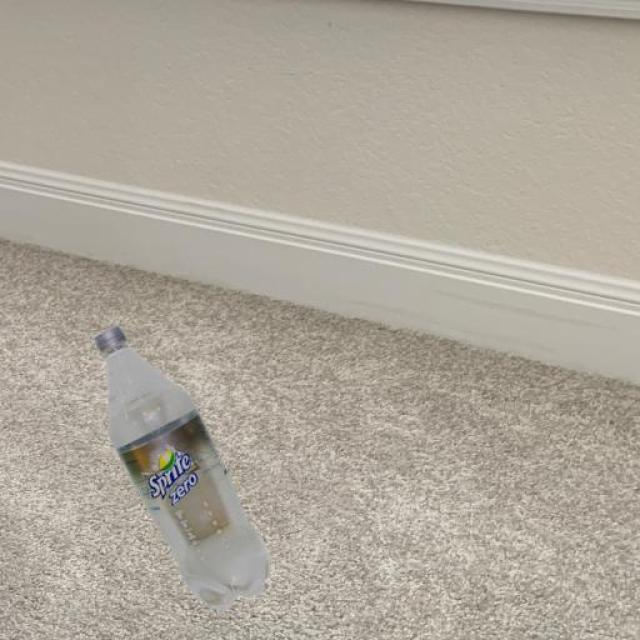bottle: (91, 298, 282, 610)
